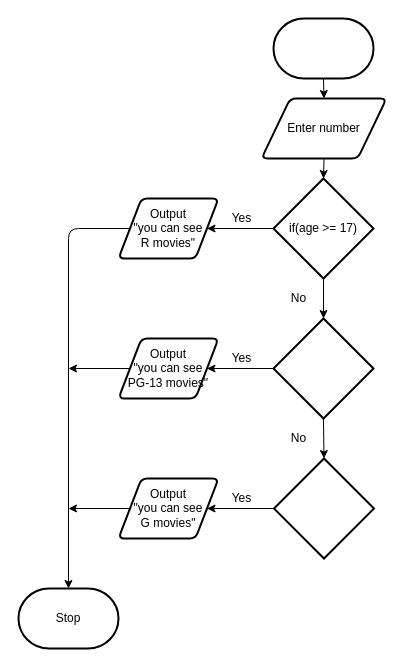
The diagram is 404 pixels wide and 666 high, and some of its shapes have lost their labels. Each missing label, with the box of its shape:
else if(age >= 13): (272, 317, 374, 419)
else(age < 13): (272, 457, 374, 559)
Start: (272, 17, 374, 79)
